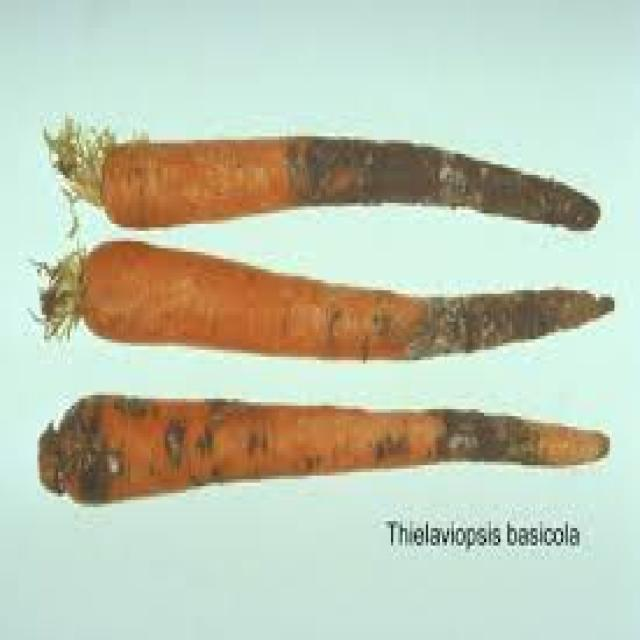Stale_Carrot: (41, 346, 614, 520), (52, 210, 620, 365), (68, 114, 605, 236)
